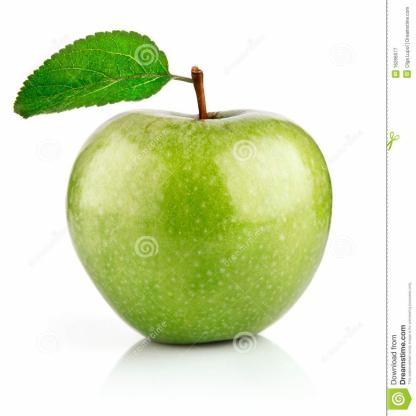apple leaf: (10, 24, 177, 126)
